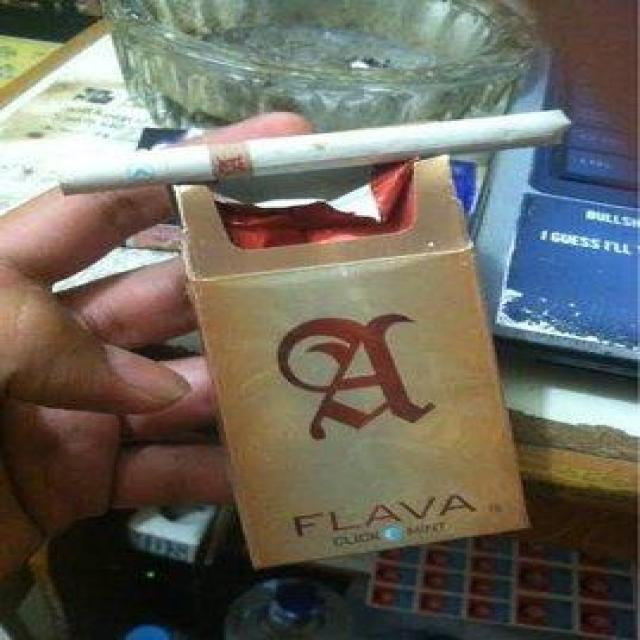rokok: (58, 107, 574, 207)
